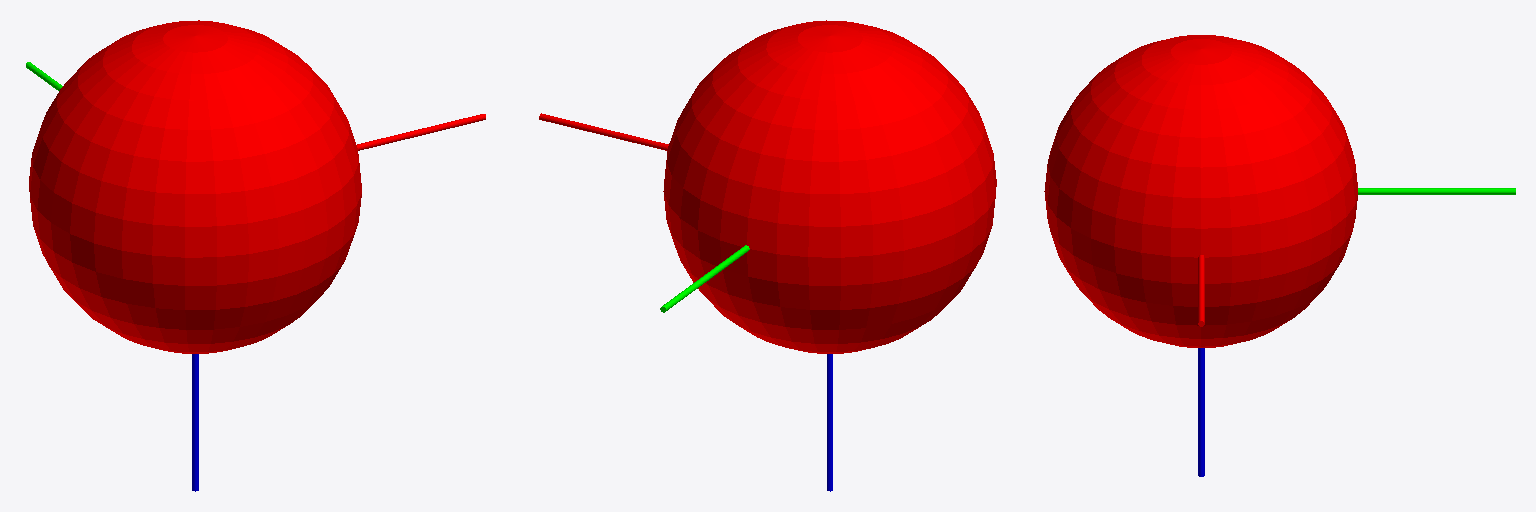
robot.urdf — point_robot:
<?xml version="1.0"?>

<!-- TODO inertias are definitely wrong -->

<robot name="point_robot">

    <link name="base_link">
        <visual>
            <geometry>
                <sphere radius="0.25"/>
            </geometry>
            <origin xyz="0 0 0" rpy="0 0 0"/>
              <material name="tred">
                <color rgba="1 0 0 0.4"/> <!-- Red Color -->
            </material>
        </visual>
        <collision>
            <geometry>
                <sphere radius="0.25"/>
            </geometry>
            <origin xyz="0 0 0" rpy="0 0 0"/>
        </collision>
        <inertial>
            <mass value="1"/>
            <inertia ixx="0.1" ixy="0.0" ixz="0.0" iyy="0.1" iyz="0.0" izz="0.1"/>
            <origin xyz="0 0 0" rpy="0 0 0"/>
        </inertial>
    </link>

    <joint name="x_joint" type="fixed">
        <parent link="base_link"/>
        <child link="x_axis"/>
        <origin xyz="0.25 0 0" rpy="0 1.5707 0"/>
    </joint>

    <link name="x_axis">
        <visual name="x_axis">
            <geometry>
                <cylinder length="0.5" radius="0.005"/>
            </geometry>
            <material name="red">
                <color rgba="1 0 0 1"/> <!-- Red Color -->
            </material>
        </visual>
        <inertial>
            <mass value="0.0"/>
            <inertia ixx="0.1" ixy="0.0" ixz="0.0" iyy="0.1" iyz="0.0" izz="0.1"/>
            <origin xyz="0 0 0" rpy="0 0 0"/>
        </inertial>
    </link>

    <joint name="y_joint" type="fixed">
        <parent link="base_link"/>
        <child link="y_axis"/>
        <origin xyz="0 0.25 0" rpy="1.5707 0 0"/>
    </joint>


    <link name="y_axis">
        <visual name="y_axis">
            <geometry>
                <cylinder length="0.5" radius="0.005"/>
            </geometry>
            <material name="green">
                <color rgba="0 1 0 1"/> <!-- Red Color -->
            </material>
        </visual>
        <inertial>
            <mass value="0.0"/>
            <inertia ixx="0.1" ixy="0.0" ixz="0.0" iyy="0.1" iyz="0.0" izz="0.1"/>
            <origin xyz="0 0 0" rpy="0 0 0"/>
        </inertial>
    </link>

    <joint name="z_joint" type="fixed">
        <parent link="base_link"/>
        <child link="z_axis"/>
        <origin xyz="0 0 -0.25" rpy="0 0 1.5707"/>
    </joint>

    <link name="z_axis">
        <visual name="y_axis">
            <geometry>
                <cylinder length="0.5" radius="0.005"/>
            </geometry>
            <material name="blue">
                <color rgba="0 0 1 1"/>
            </material>
        </visual>
        <inertial>
            <mass value="0.0"/>
            <inertia ixx="0.1" ixy="0.0" ixz="0.0" iyy="0.1" iyz="0.0" izz="0.1"/>
            <origin xyz="0 0 0" rpy="0 0 0"/>
        </inertial>
    </link>

</robot>

--- What the picture shows (computed from the rendered views, not written in the file) ---
3 views of the same robot in one strip: view 1: azimuth 30°, elevation 25°; view 2: azimuth 150°, elevation 25°; view 3: azimuth 270°, elevation 25° (orthographic).
Robot: point_robot — 4 links, 3 joints (3 fixed); root link base_link; default pose: all joints at 0.
Visible links, largest first — view 1: base_link, z_axis, x_axis; view 2: base_link, x_axis, z_axis, y_axis; view 3: base_link, y_axis, z_axis.
Boxes of the visible links, box(x1,y1,x2,y2) form: base_link: box(29, 20, 361, 353); z_axis: box(192, 354, 198, 491); x_axis: box(357, 114, 485, 150); base_link: box(663, 20, 996, 353); x_axis: box(539, 113, 668, 150); z_axis: box(827, 354, 832, 491); y_axis: box(660, 245, 749, 312); base_link: box(1044, 35, 1357, 347); y_axis: box(1358, 188, 1515, 194); z_axis: box(1198, 348, 1204, 476).
Bounding box of the posed robot: 0.75 × 0.75 × 0.75 m (x, y, z).
Geometry: primitives only (box / cylinder / sphere), no mesh files.